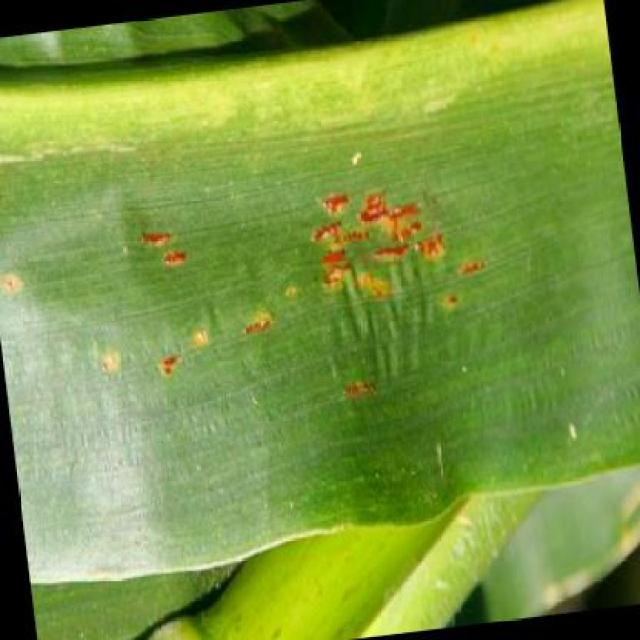Corn_Rust: (52, 128, 591, 534)
